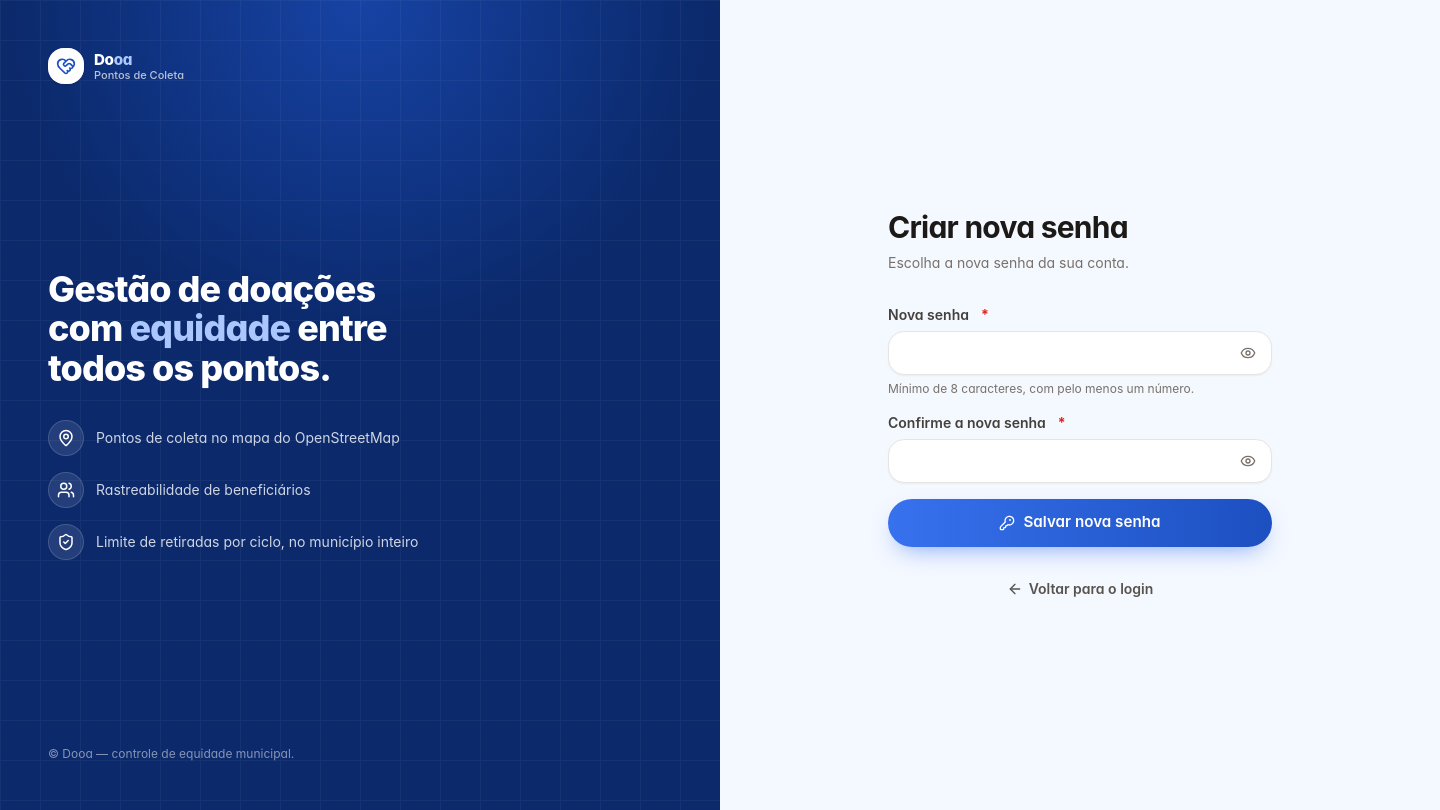
Test case: ResetPasswordPage › mostra o erro de link expirado e oferece pedir outro
Type "SenhaNova2" into the password field labelled "Nova senha" at point(1080, 352), box left=888, top=330, right=1272, bottom=374
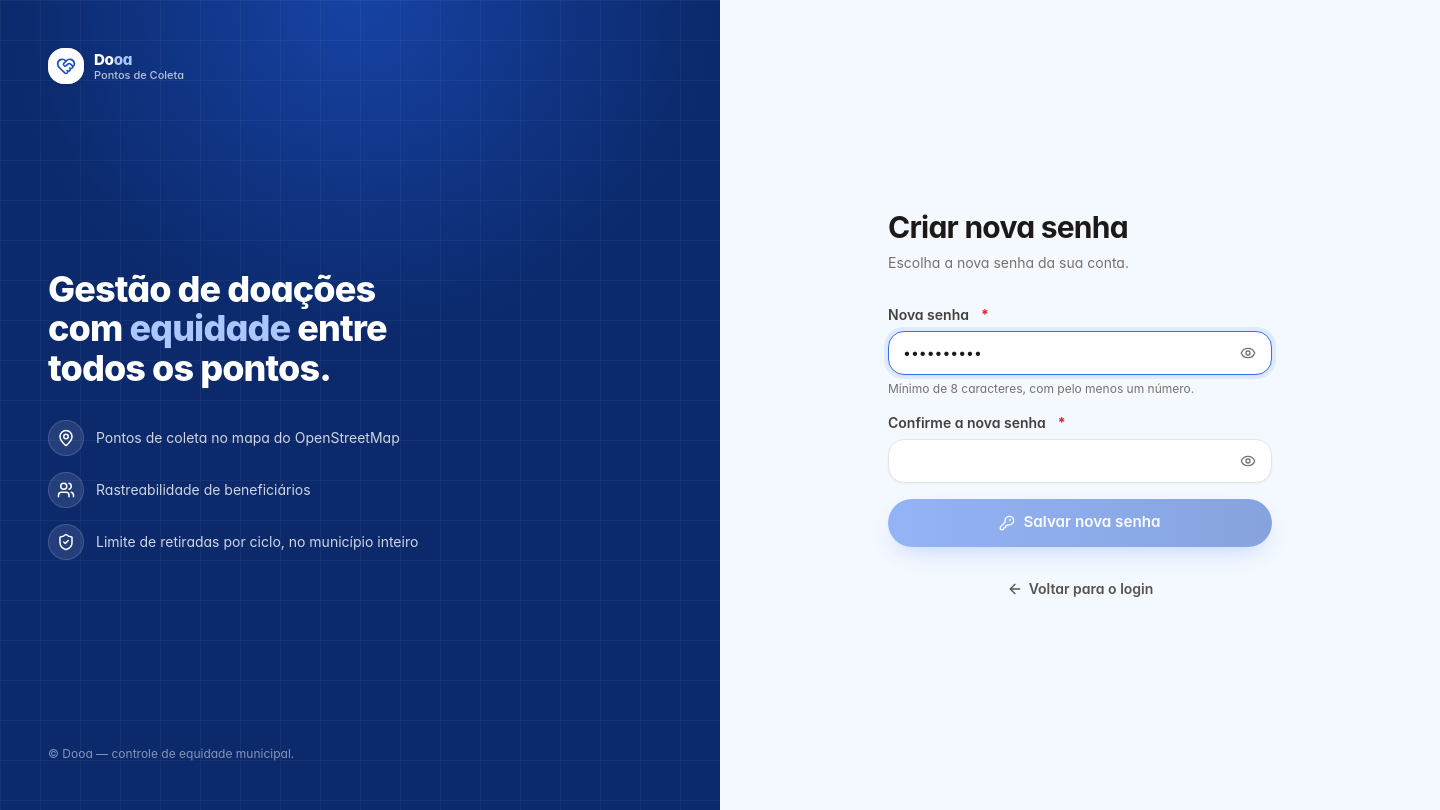
Type "SenhaNova2" into the password field labelled "Confirme a nova senha" at point(1080, 460), box left=888, top=438, right=1272, bottom=482
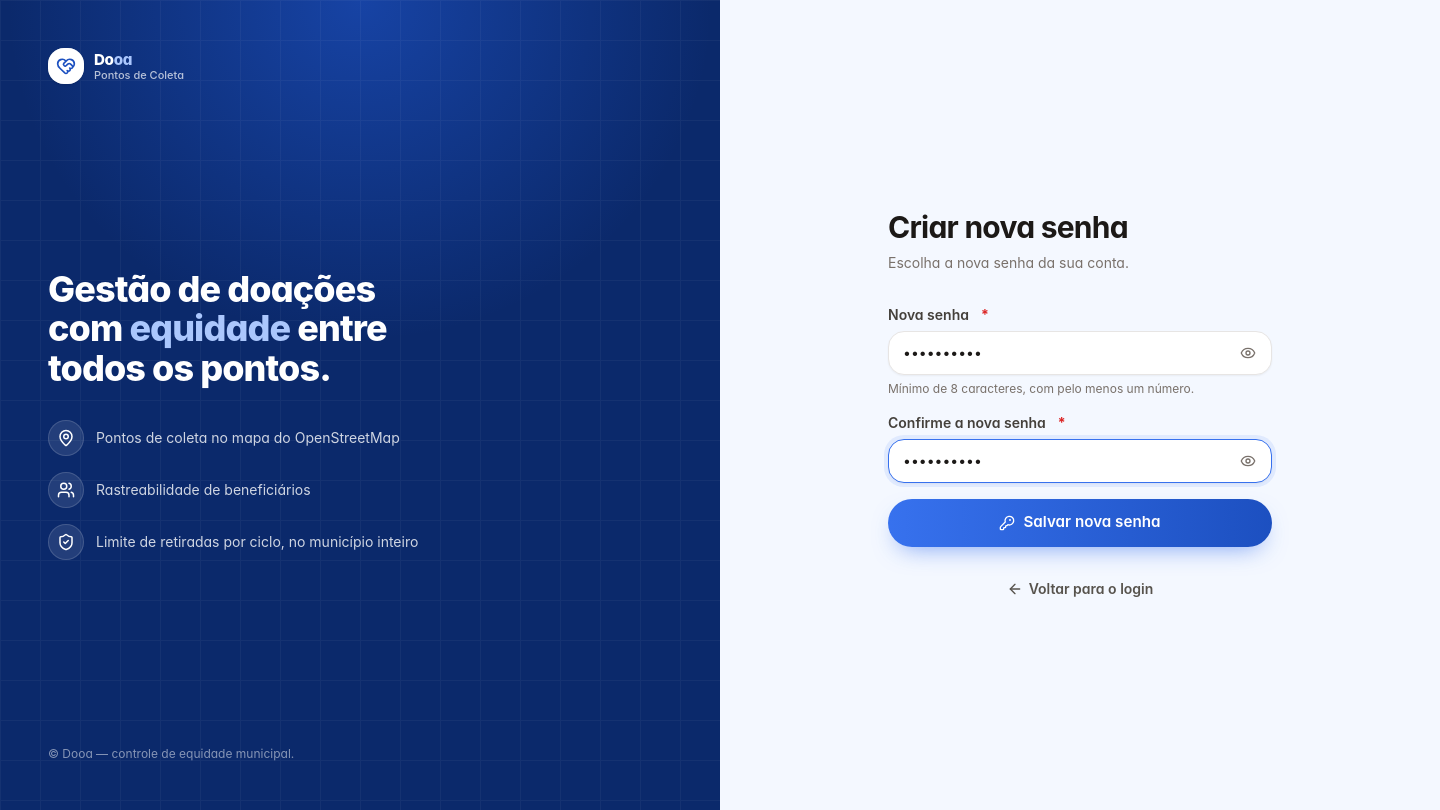
Click the button "Salvar nova senha" at point(1080, 522), box left=888, top=498, right=1272, bottom=546
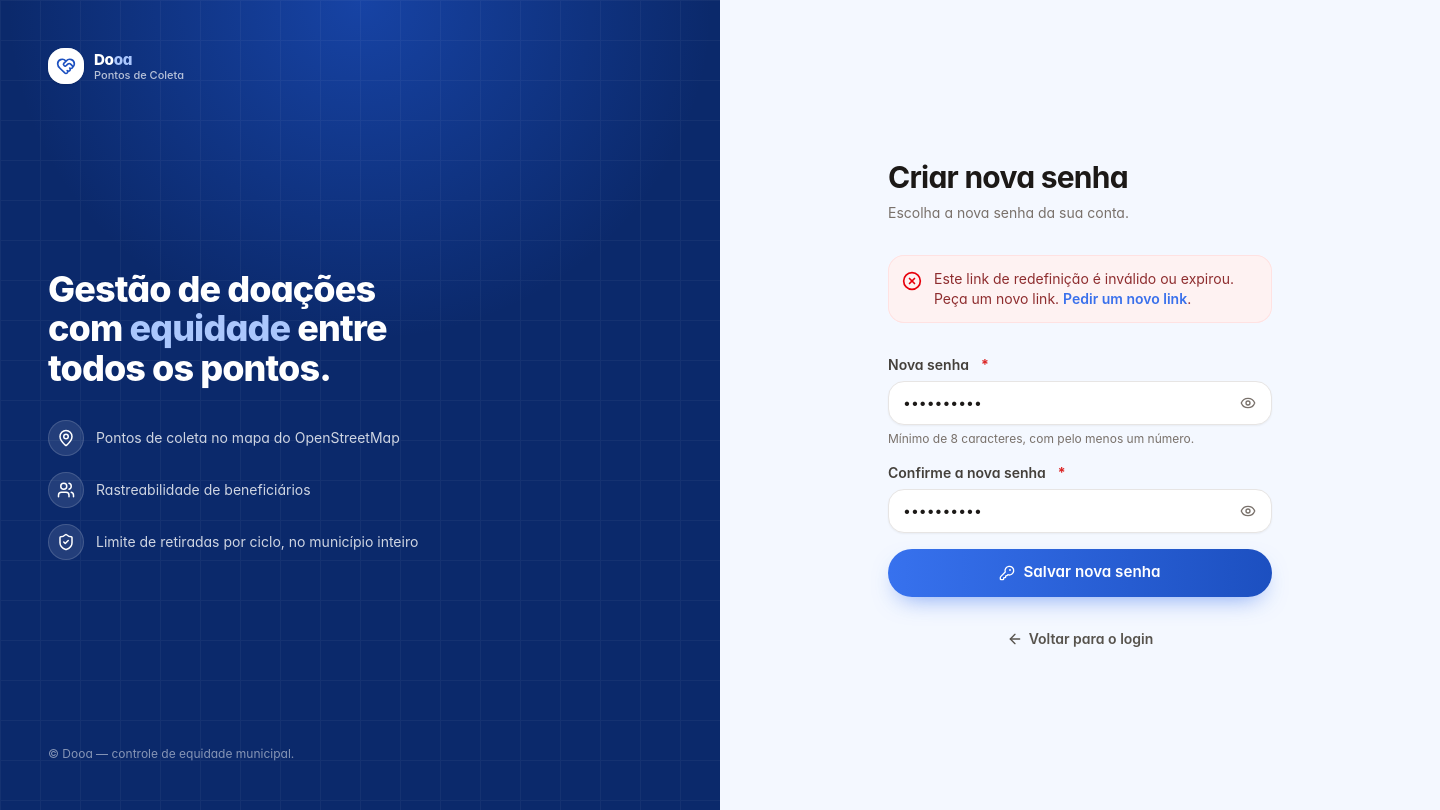
Check: the text "inválido ou expirou" is shown, box left=934, top=270, right=1234, bottom=306
